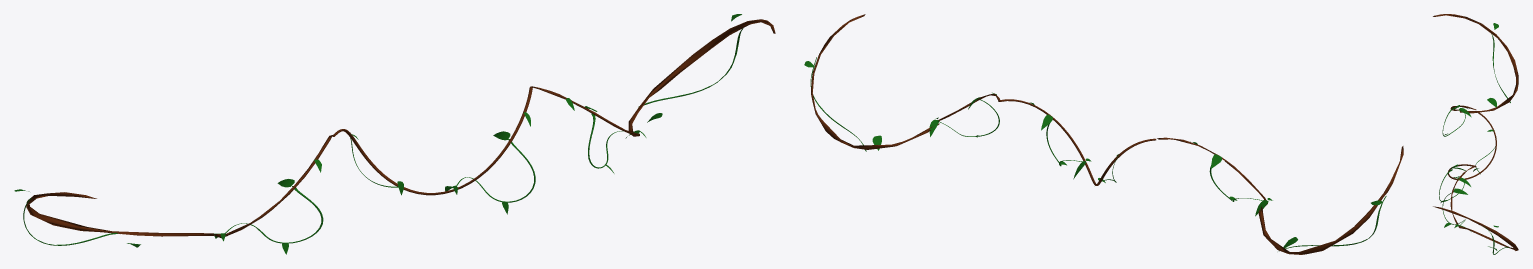
File: lianeHorizontale.FBX
3 renders of one model, left to right at view 1: azimuth 30°, elevation 25°; view 2: azimuth 150°, elevation 25°; view 3: azimuth 270°, elevation 25°, orthographic. The views are drawn at different scales.
Visible parts, largest first — view 1: Helix010; view 2: Helix010; view 3: Helix010.
Part boxes in pixels (x1,y1,x2,y2): Helix010: [14, 14, 775, 254]; Helix010: [804, 14, 1403, 254]; Helix010: [1433, 14, 1518, 254].
Size of the model in its own units: 4.12 by 0.6646 by 0.7393.
